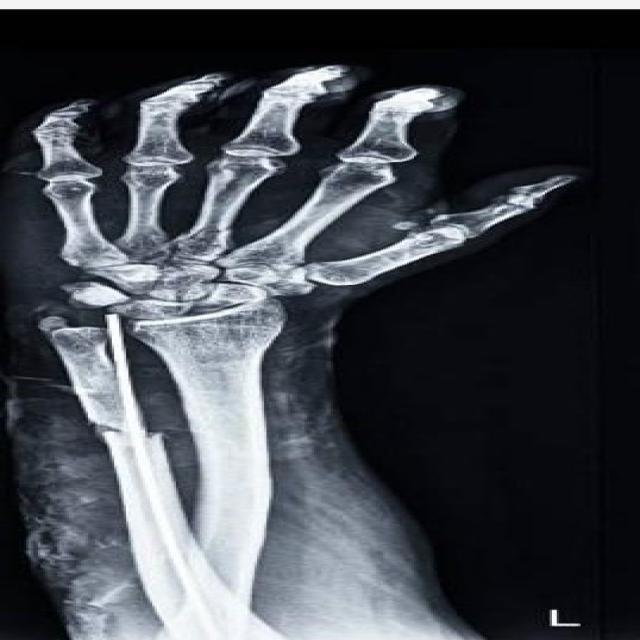bone: (414, 454, 464, 560)
